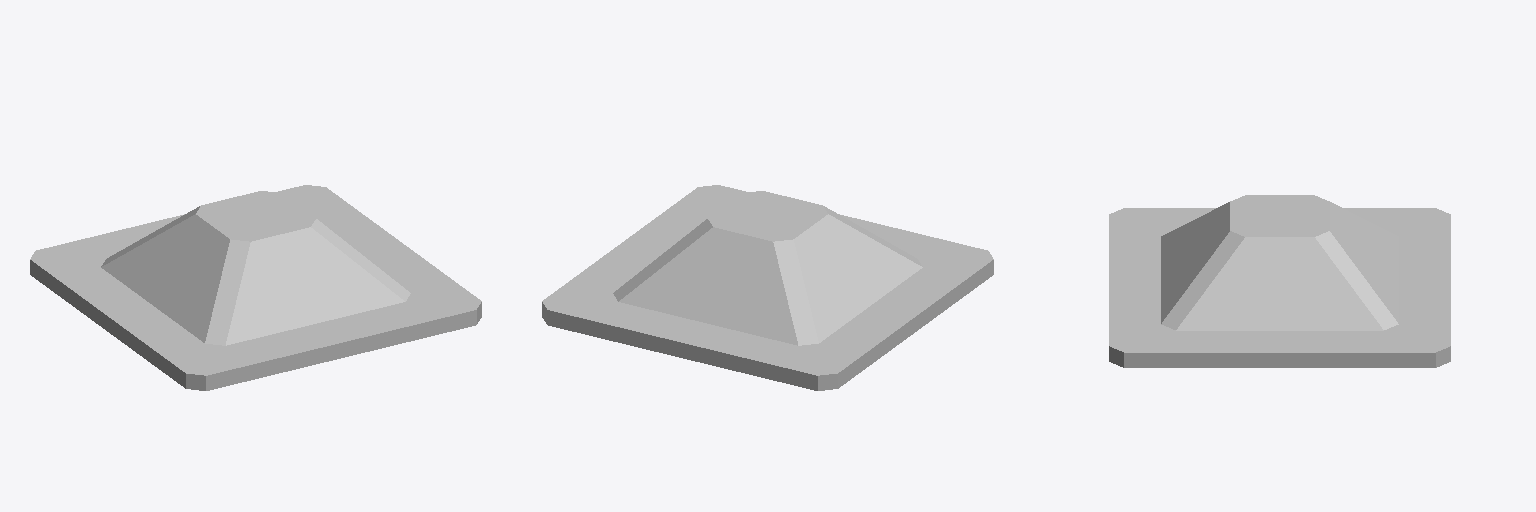
File: PBR - Metallic Roughness.obj
3 renders of one model, left to right at view 1: azimuth 30°, elevation 25°; view 2: azimuth 150°, elevation 25°; view 3: azimuth 270°, elevation 25°, orthographic.
Parts seen in each view (by area): view 1: Plane001_Plane001; view 2: Plane001_Plane001; view 3: Plane001_Plane001.
Part boxes in pixels (x1,y1,x2,y2): Plane001_Plane001: (30,185,481,390); Plane001_Plane001: (542,185,993,390); Plane001_Plane001: (1109,195,1450,367).
Bounding box in the file's own units: 40 × 10.27 × 40.